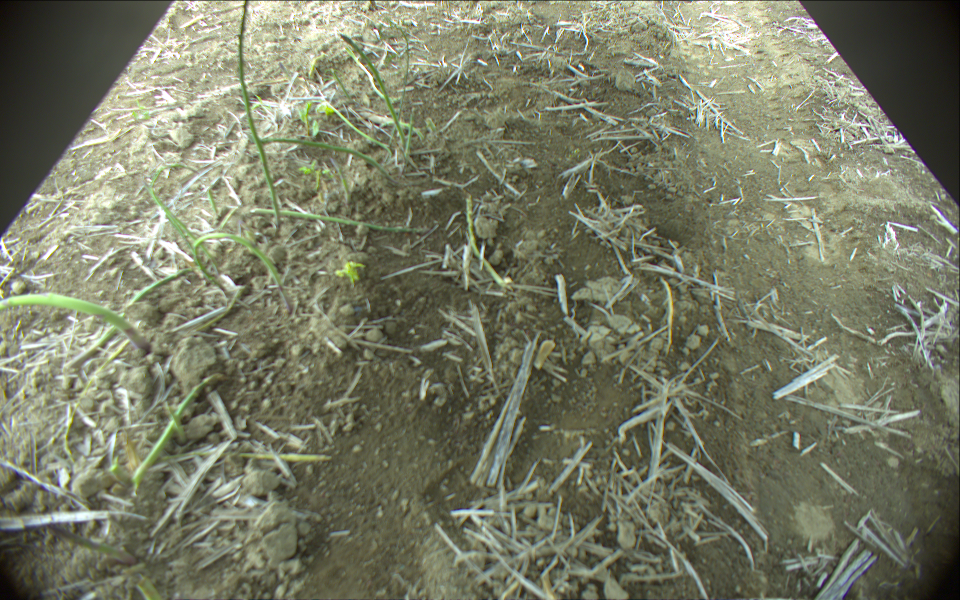aspa: (64, 265, 196, 371), (236, 1, 284, 227), (134, 371, 223, 484), (1, 290, 153, 355), (144, 166, 220, 269), (338, 33, 407, 146), (257, 135, 392, 180), (241, 207, 429, 235), (191, 232, 283, 287), (465, 194, 508, 289), (323, 98, 392, 155), (382, 15, 410, 147), (359, 110, 422, 142), (236, 450, 330, 461), (166, 404, 190, 445), (401, 105, 416, 161), (206, 190, 224, 221)
